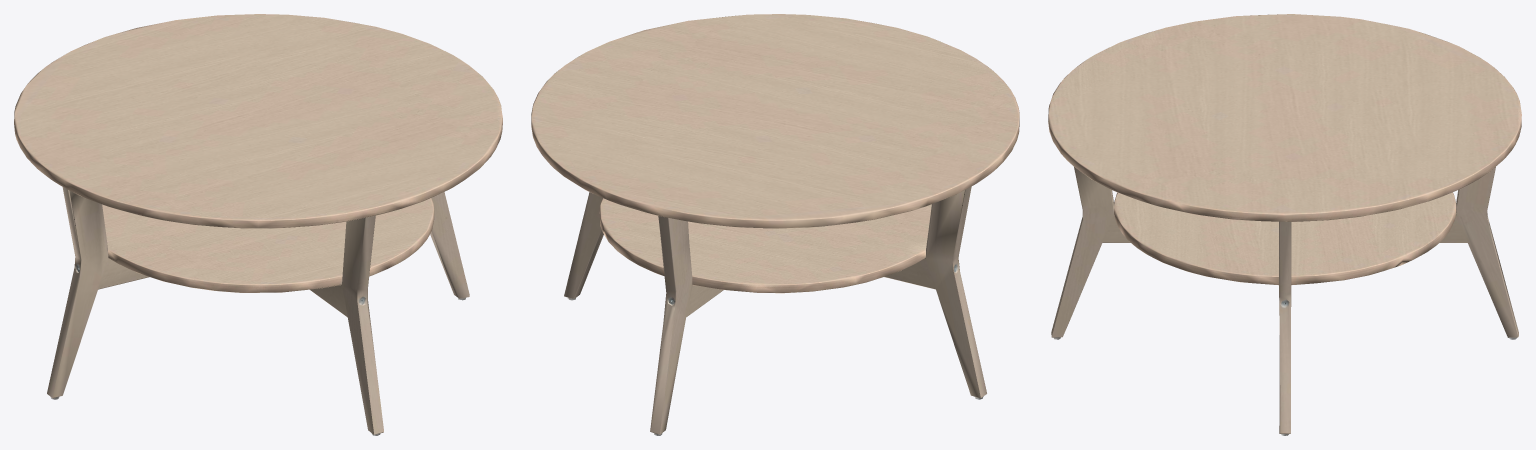
The model's file is JAKOBSFORS_90500121.glb.
3 views of the same model, side by side, from view 1: azimuth 30°, elevation 25°; view 2: azimuth 150°, elevation 25°; view 3: azimuth 270°, elevation 25° (orthographic). The views are drawn at different scales.
Parts seen in each view (by area): view 1: ProcessedMeshNode; view 2: ProcessedMeshNode; view 3: ProcessedMeshNode.
Part boxes in pixels (box(x1,y1,x2,y2)): ProcessedMeshNode: box(14, 14, 502, 435); ProcessedMeshNode: box(531, 14, 1019, 435); ProcessedMeshNode: box(1048, 14, 1521, 435).
Bounding box in the file's own units: 0.7997 × 0.4185 × 0.7994.
Materials: 1 (1 with a texture image).
